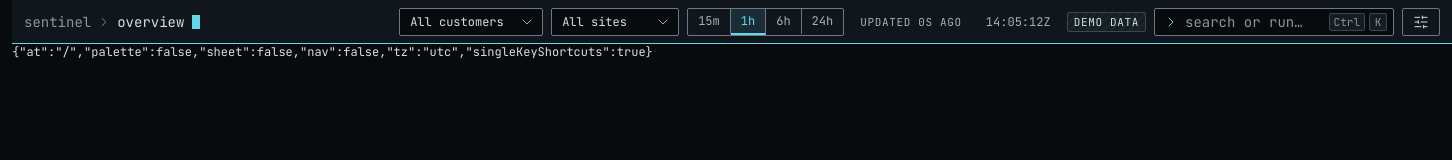
Scenario: Topbar: clock › switches between UTC and local on click
This screenshot has width=1452, height=160.
Click the button named "UTC".
click(1018, 22)  # box x1=978 y1=8 x2=1059 y2=36
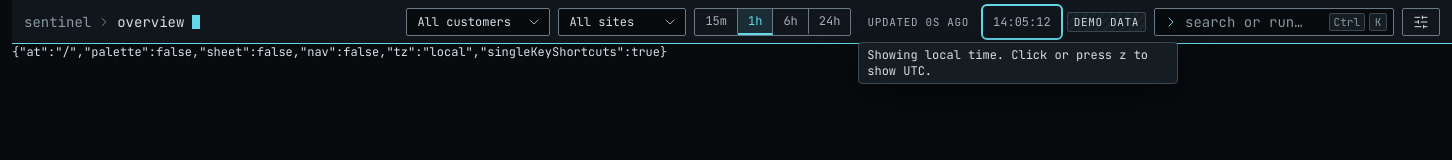
Check: the button named "local time, switch to UTC" is shown, box x1=985 y1=8 x2=1059 y2=36
Check: the button "14:05:12Z" is gone
